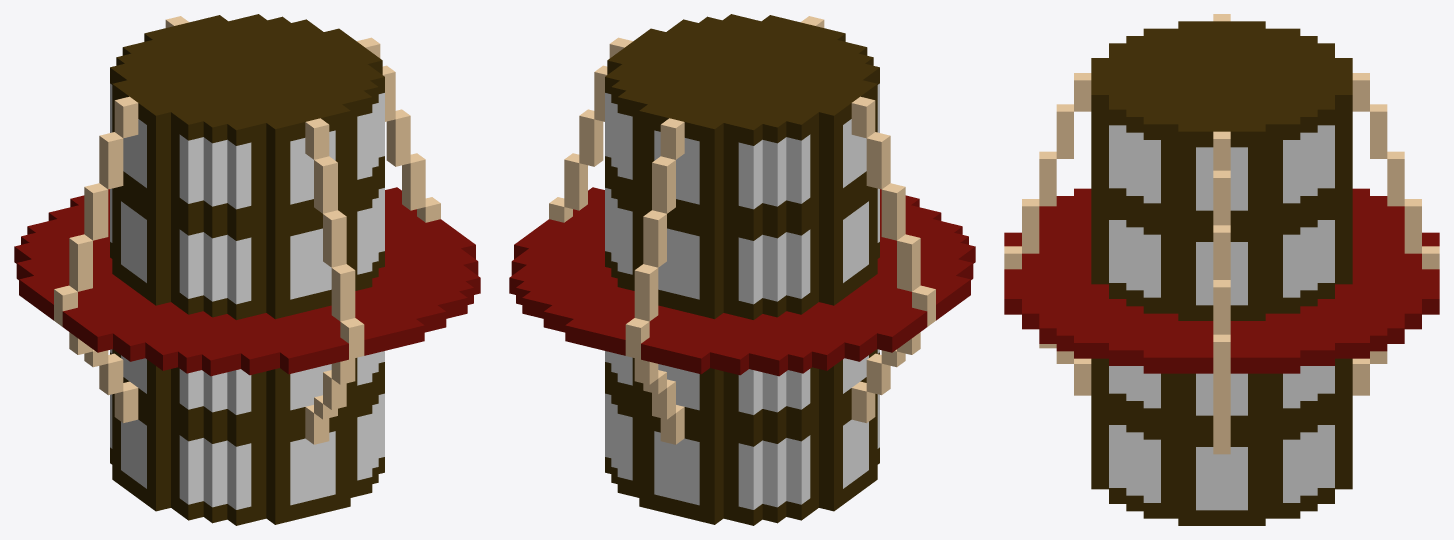
The model's file is ninethModel.fbx.
3 renders of one model, left to right at view 1: azimuth 30°, elevation 25°; view 2: azimuth 150°, elevation 25°; view 3: azimuth 270°, elevation 25°, orthographic.
Parts seen in each view (by area): view 1: Cylinder; view 2: Cylinder; view 3: Cylinder.
Part boxes in pixels (x1,y1,x2,y2): Cylinder: (14, 14, 480, 525); Cylinder: (509, 14, 975, 525); Cylinder: (1004, 14, 1439, 525).
Size of the model in its own units: 25 by 25 by 25.
1 material, 1 textured.
